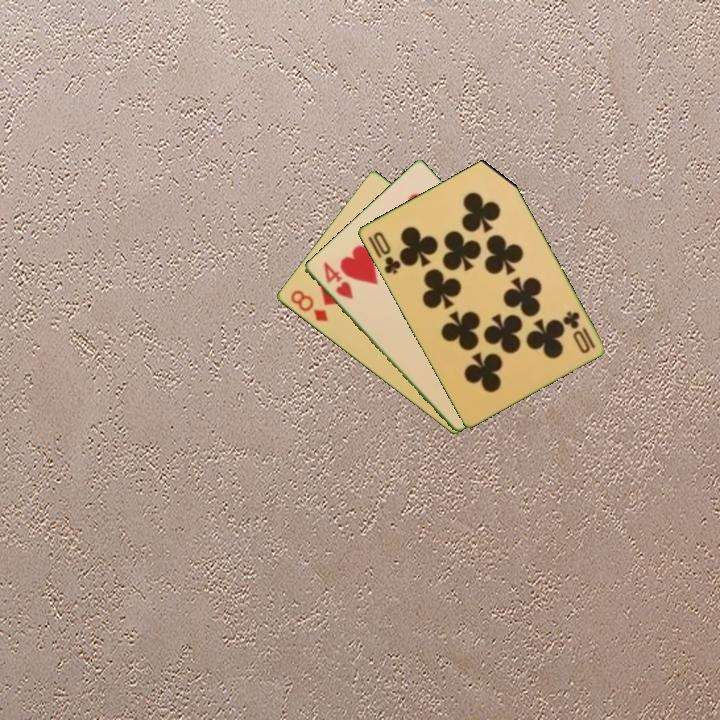10c: (559, 307, 598, 356), (369, 228, 404, 277)
4h: (319, 258, 356, 302)
8d: (286, 286, 331, 325)
